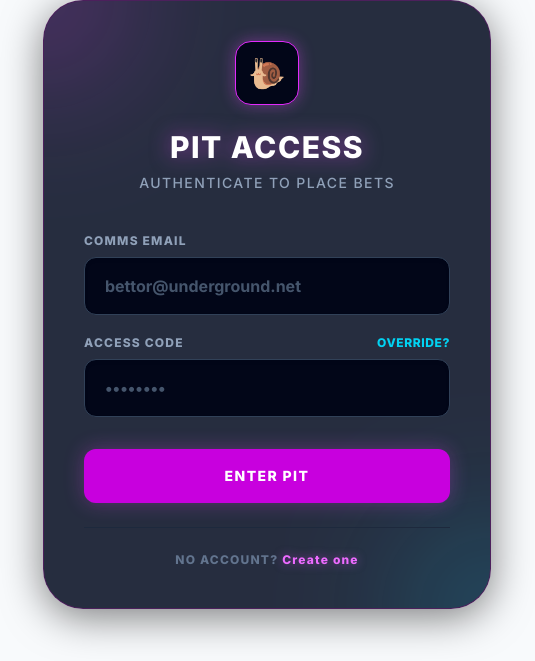
Test case: LoginForm › shows loading state during submission
The width and height of the screenshot is (535, 661).
Type "test@example.com" into the field labelled "Comms Email".
click(267, 286); type("test@example.com")  # box [84,257,450,315]
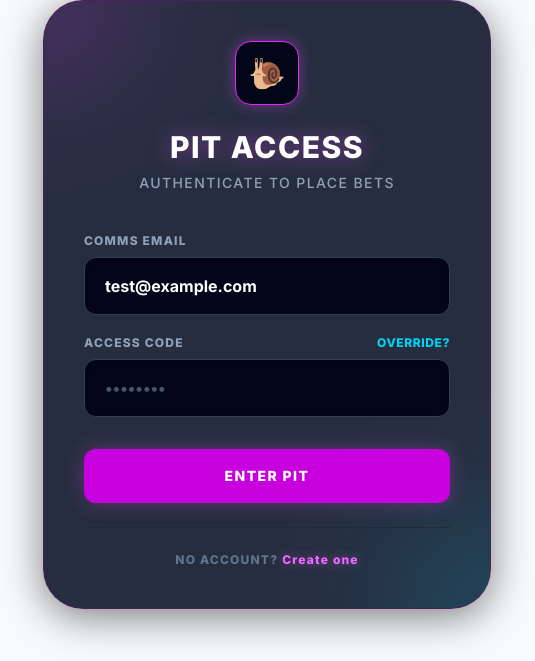
Type "password123" into the password field labelled "Access Code".
click(267, 388); type("password123")  # box [84,359,450,417]
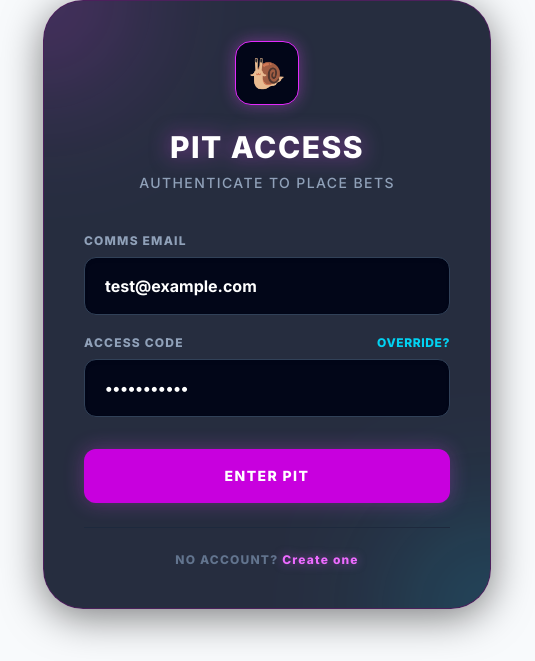
Click the button "Enter Pit".
click(267, 476)  # box [84,449,450,503]
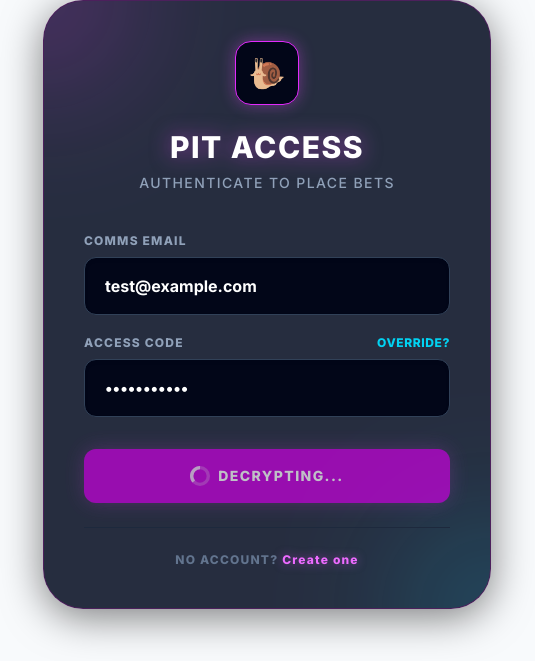
Expected: the text "Decrypting..." is shown, [190,466,344,486]
Expected: the button "Decrypting..." is disabled, [84,449,450,503]
